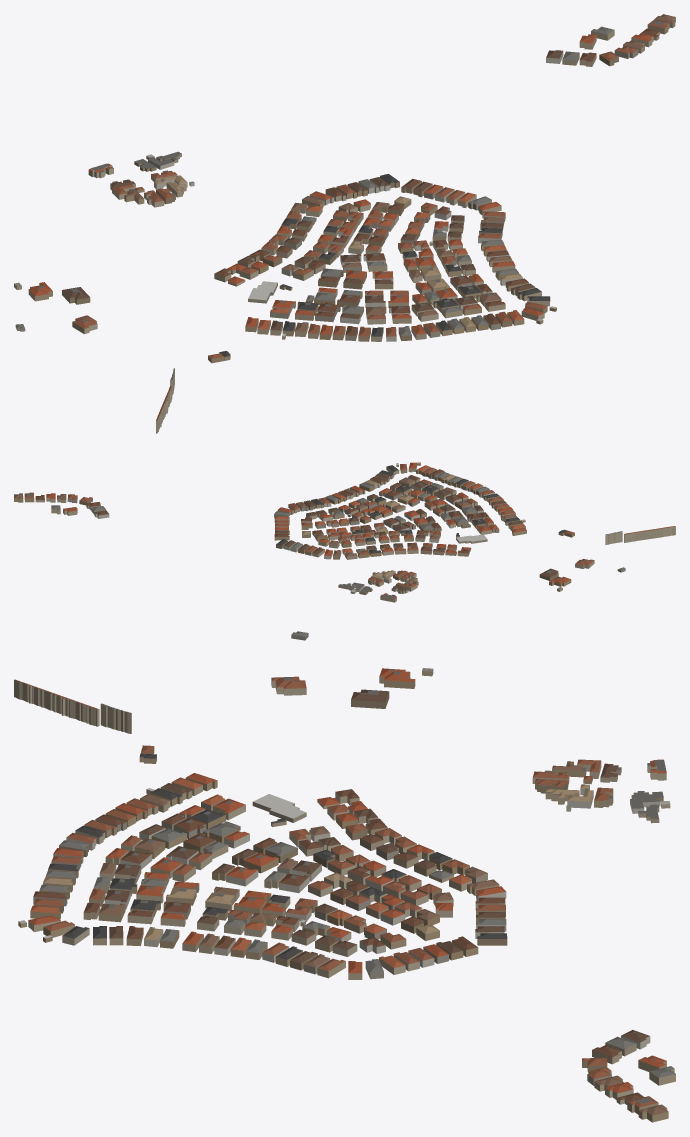
3 renders of one model, top to bottom at view 1: azimuth 30°, elevation 25°; view 2: azimuth 150°, elevation 25°; view 3: azimuth 270°, elevation 25°, orthographic. The views are drawn at different scales.
Visible parts, largest first — view 1: buildings_r5_c2_lod1; view 2: buildings_r5_c2_lod1; view 3: buildings_r5_c2_lod1.
Part boxes in pixels (x1,y1,x2,y2): buildings_r5_c2_lod1: (14,14,675,433); buildings_r5_c2_lod1: (14,462,675,602); buildings_r5_c2_lod1: (14,631,675,1122).
Size of the model in its own units: 1035 by 69.14 by 569.
